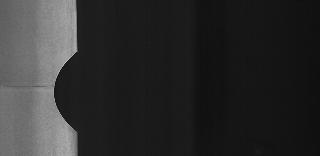welding line: (0, 78, 66, 96)
